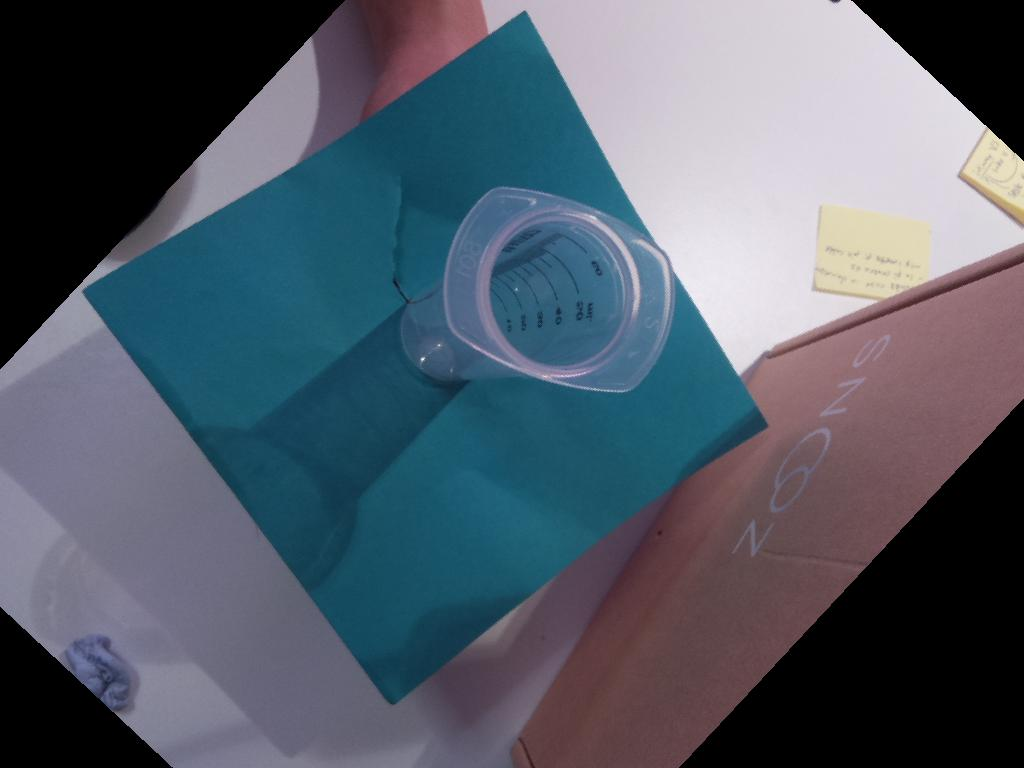clean: (440, 182, 677, 396)
